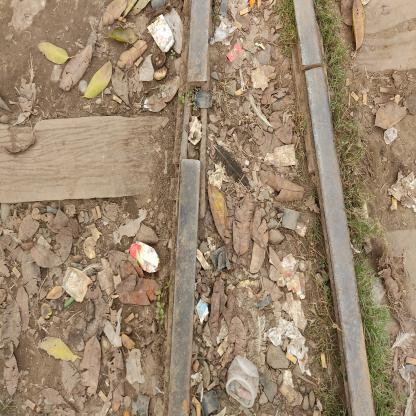Defective 2: (176, 70, 228, 192)
